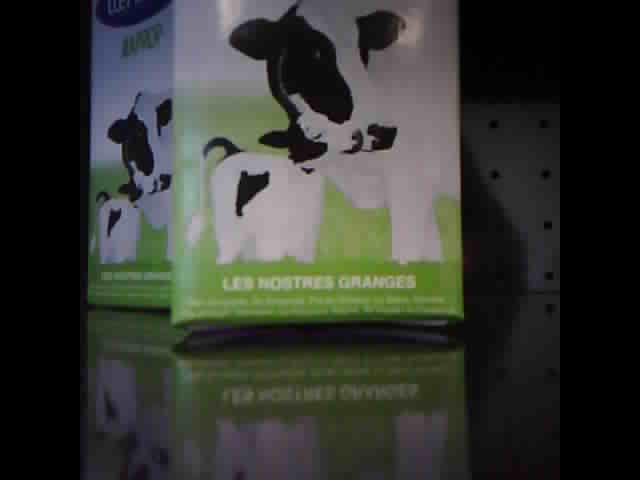leche: (171, 5, 461, 330), (86, 3, 171, 311)
